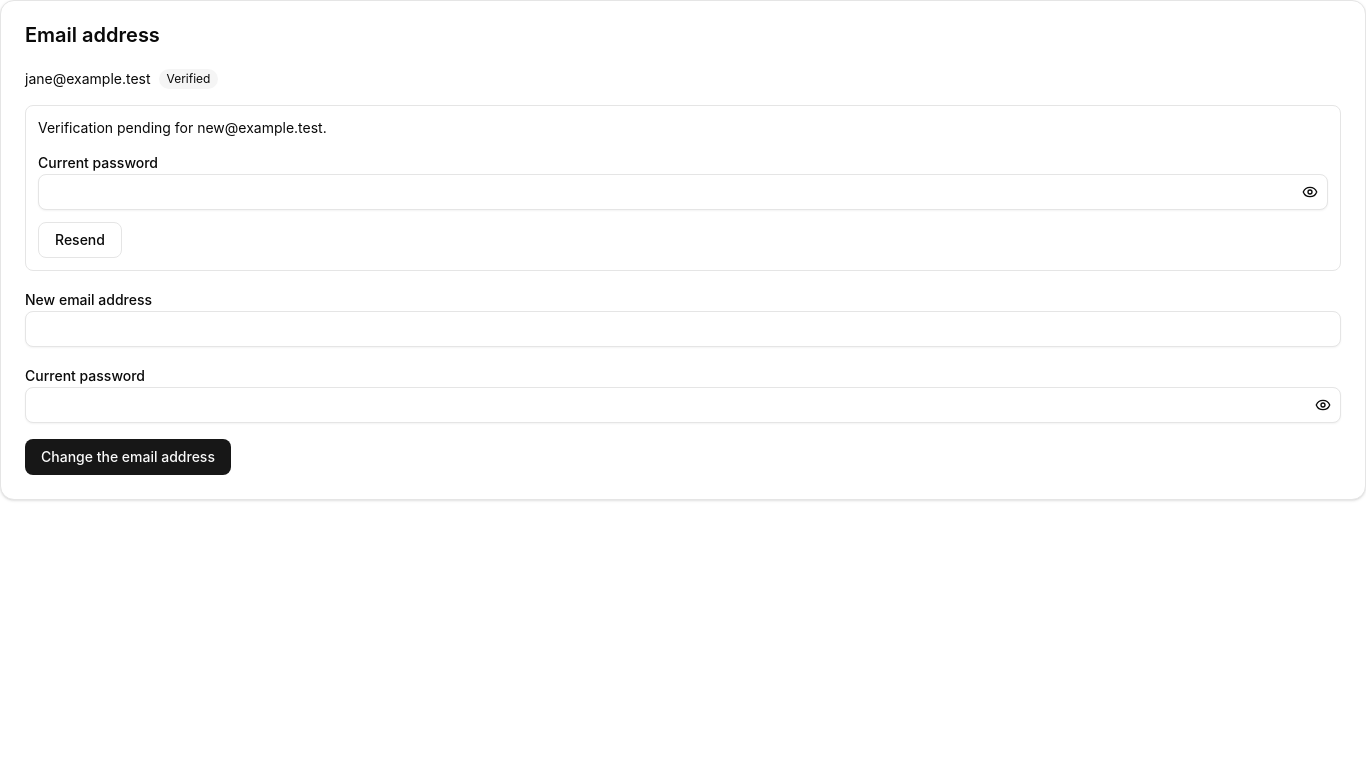
Scenario: shows a wrong password when resending
Check: the text "Verification pending for new@example.test." is shown, box [38,119,327,136]
Type "wrong" into the password field with id "resend-email-password". click: (683, 192)
box: [38,174,1328,210]
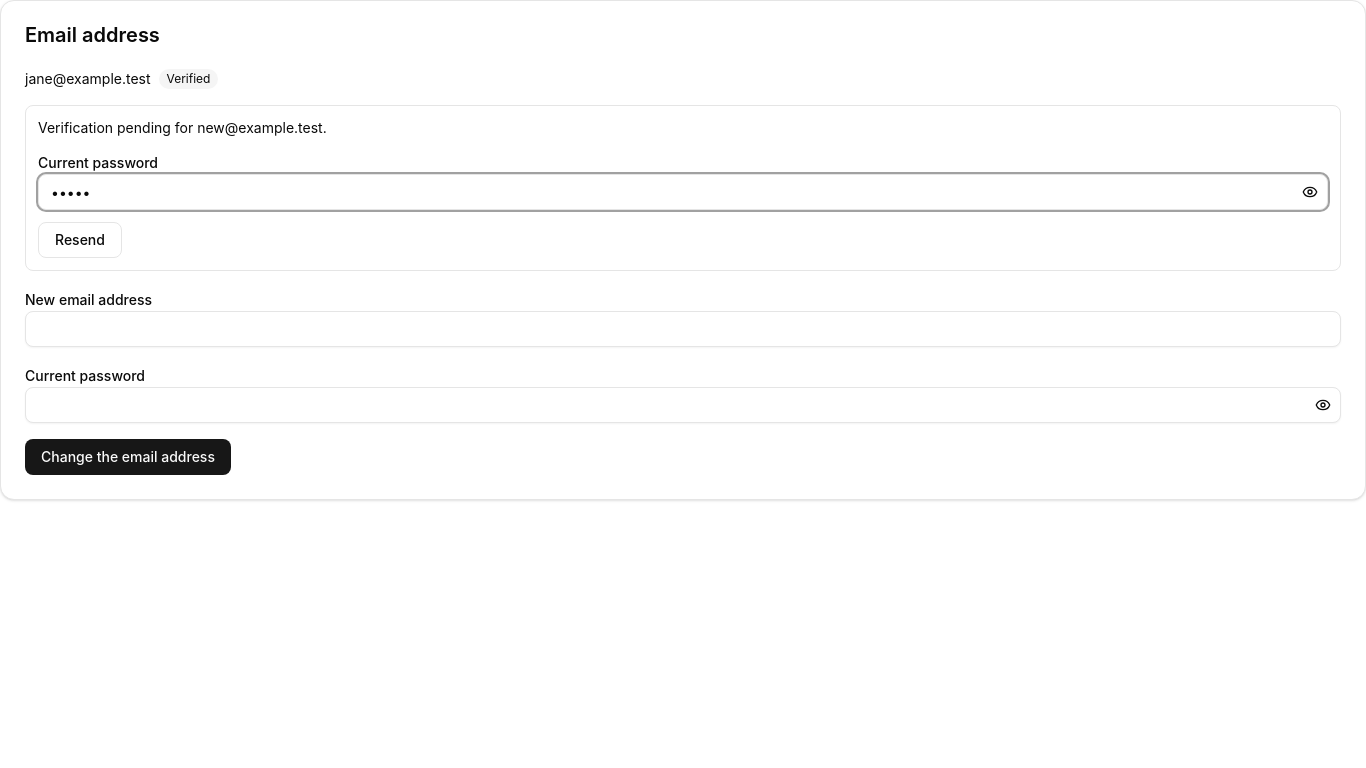
Click the button "Resend". click: (80, 240)
box: [38,222,122,258]
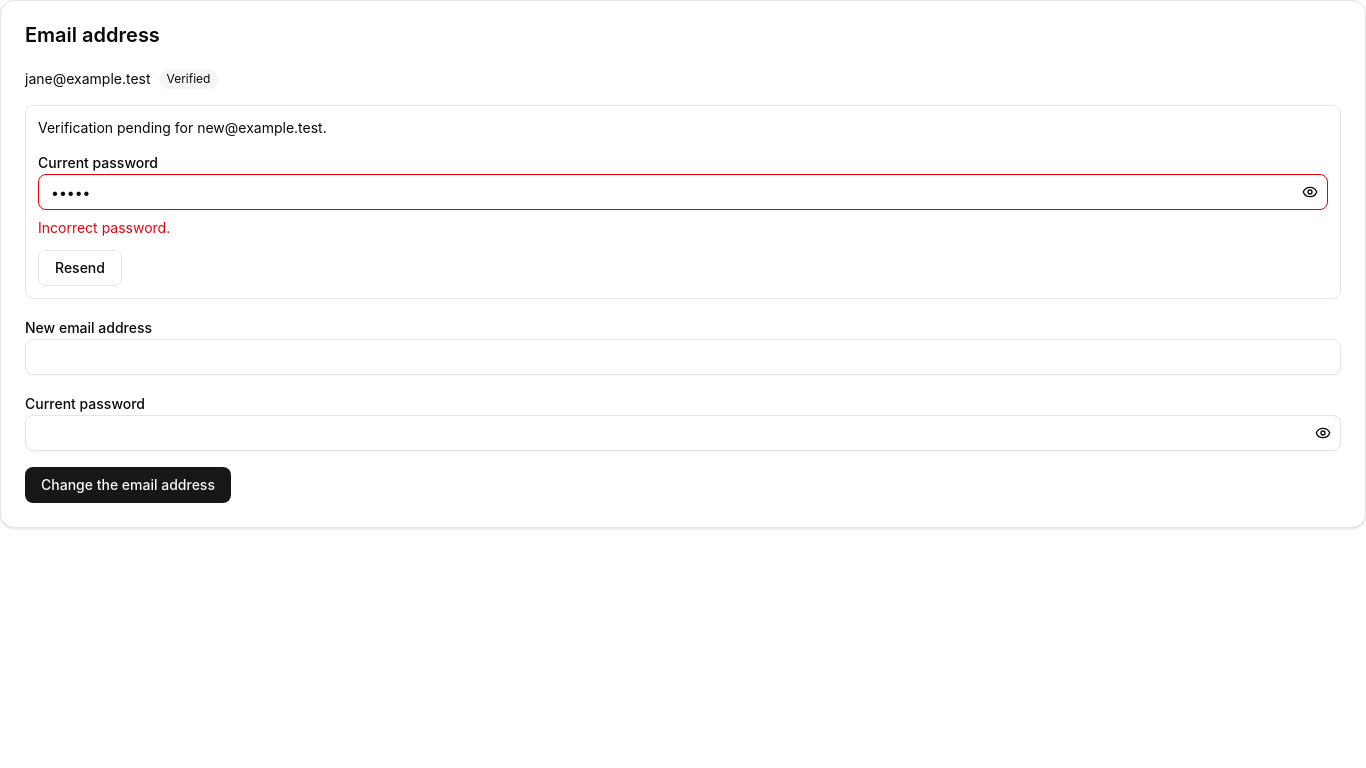
Check: the text "Incorrect password." is shown, box [38,219,170,236]
